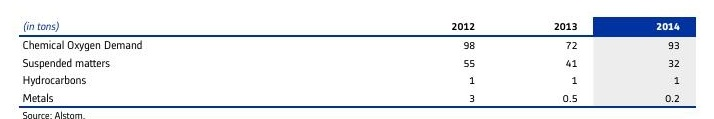table: (0, 0, 714, 119)
